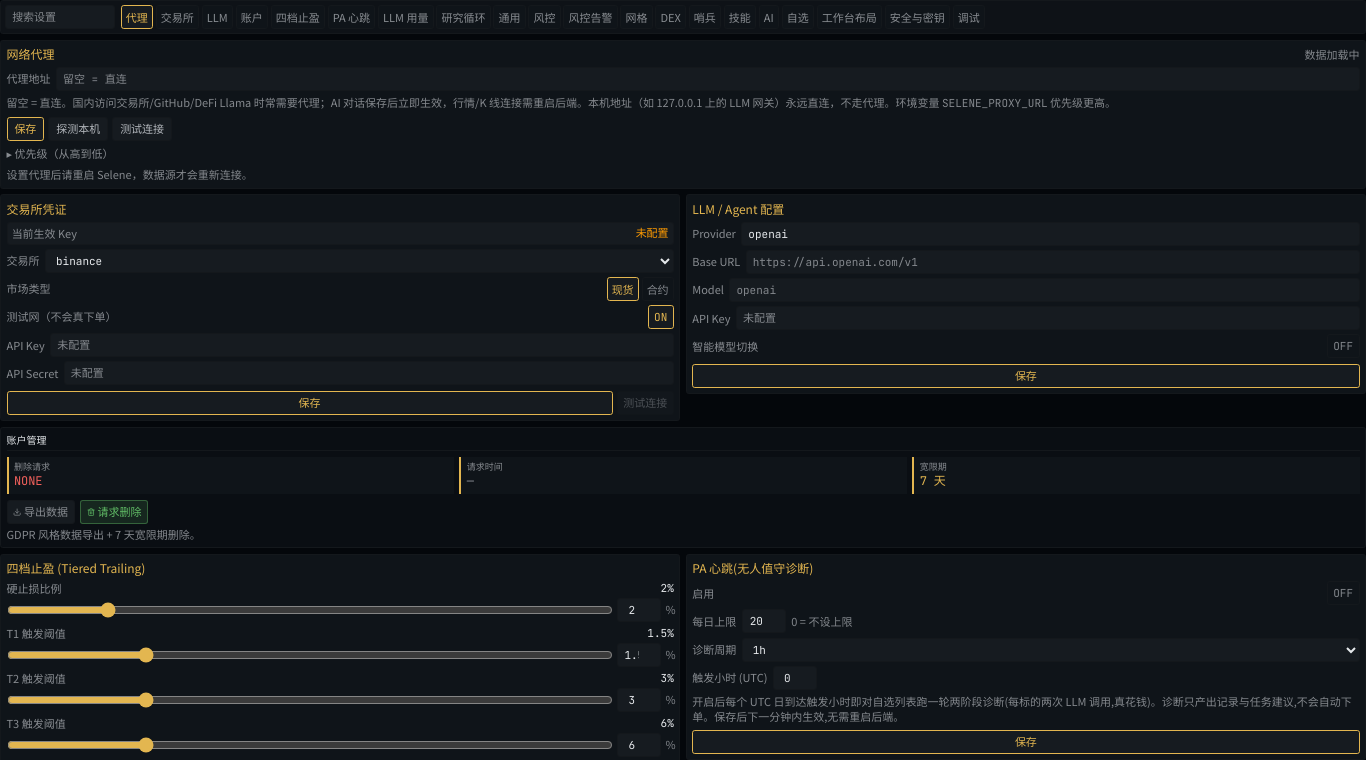
it: 设置页 P1:搜索 › 搜索匹配行标签与值(不只标题),并把只读组强制展开
The image size is (1366, 760).
Type "drawdown" into the search field labelled "搜索设置" at x=60, y=17, box x1=5 y1=5 x2=115 y2=29
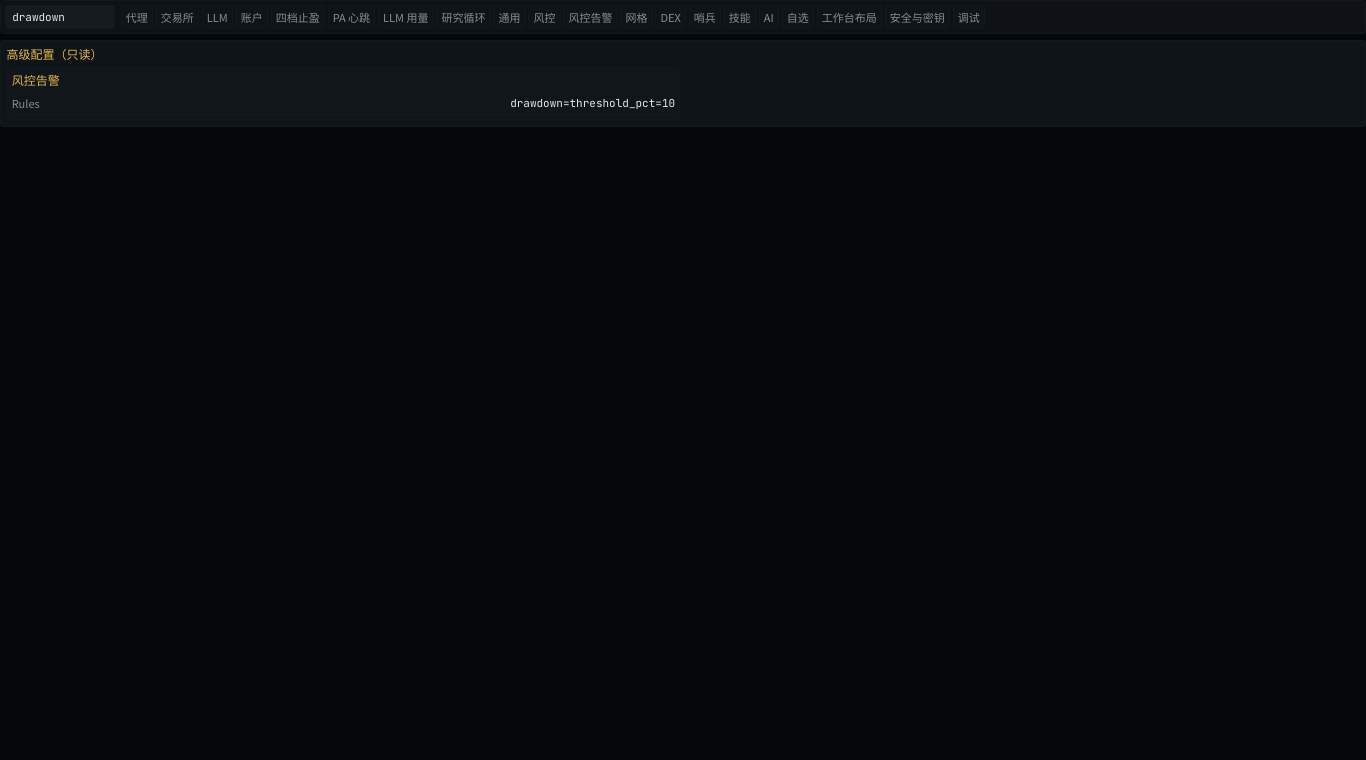
Expected: the element with id "set-group-risk_alerts" is shown, x1=6 y1=67 x2=680 y2=120
Expected: the element with id "set-group-risk_alerts" shows "drawdown", x1=510 y1=96 x2=675 y2=110
